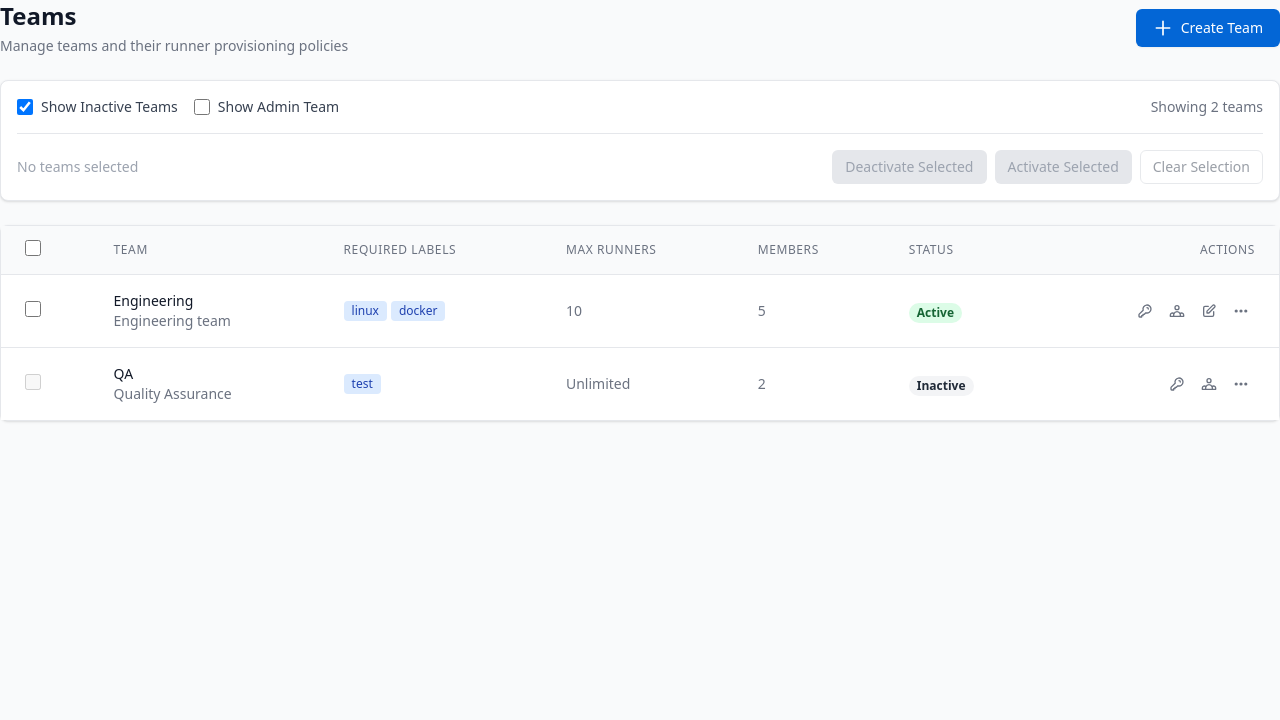
Teams › closes edit modal when Cancel is clicked
Check: the text "Engineering" is shown, box 114,291 -> 193,310
Click the button named "edit team" at coordinates (1209, 311), box 1195,297 -> 1223,325
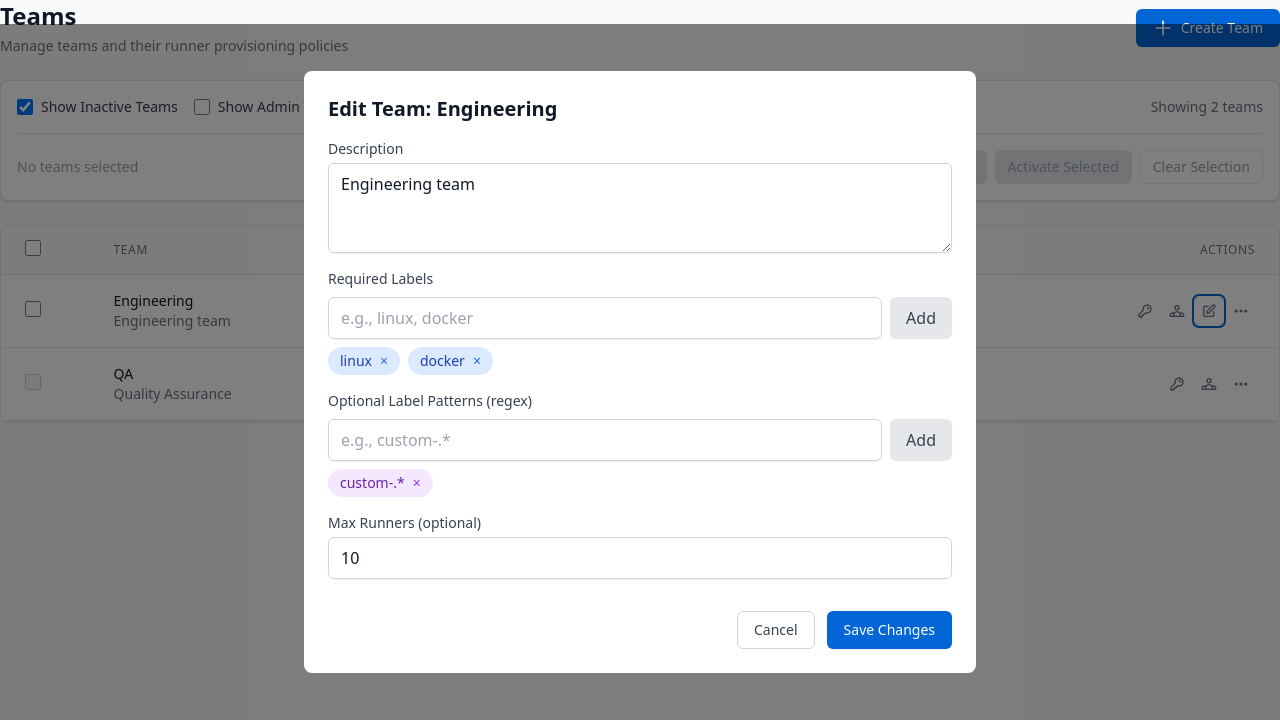
Check: the heading "Edit Team: Engineering" is shown, box 328,95 -> 557,122
Click the button "Cancel" at coordinates (776, 630), box 737,611 -> 815,649
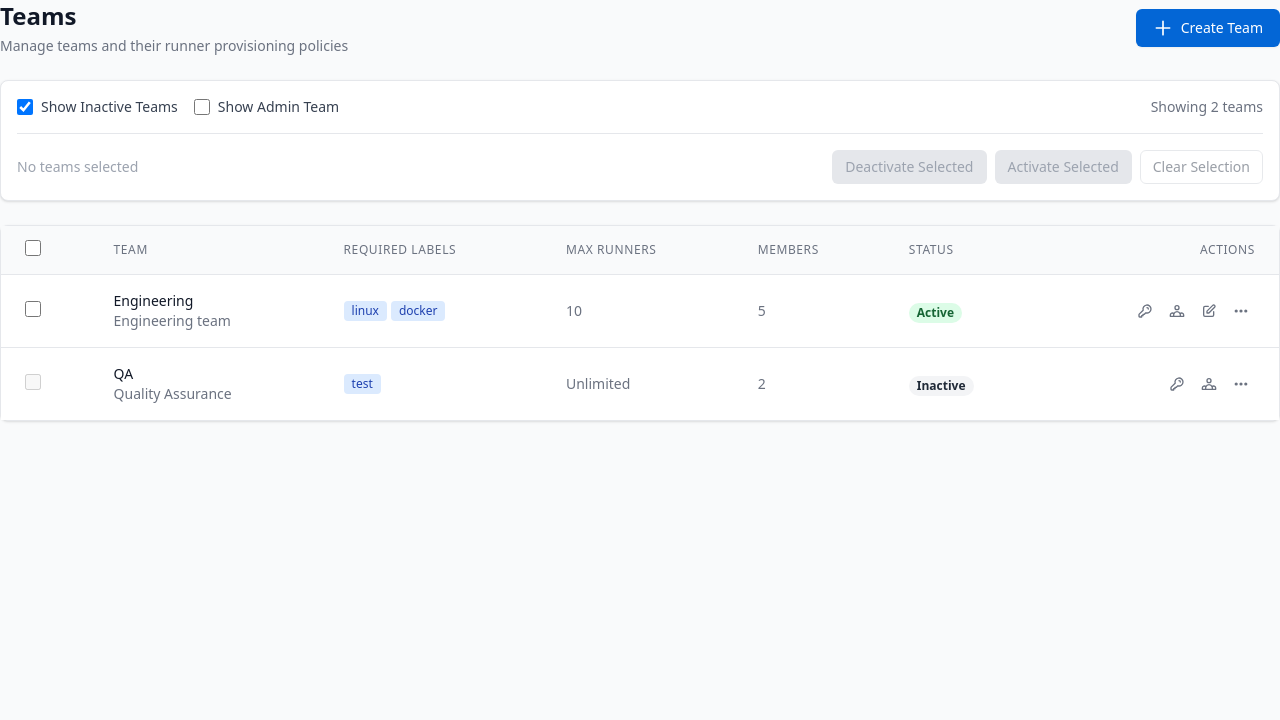
Check: the heading "Edit Team:" is gone
